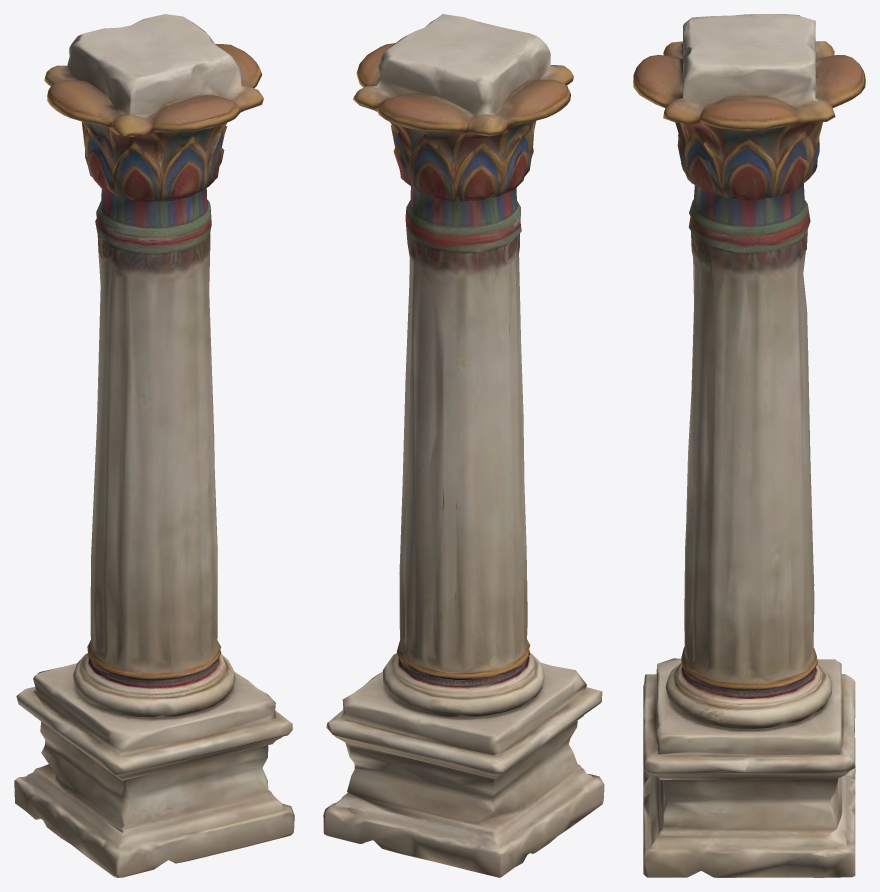
The model's file is egyptian_column.glb.
3 views of the same model, side by side, from view 1: azimuth 30°, elevation 25°; view 2: azimuth 150°, elevation 25°; view 3: azimuth 270°, elevation 25° (orthographic). The views are drawn at different scales.
Parts seen in each view (by area): view 1: tripo_node_01571942-dcf3-449b-905e-fe70039db5fb; view 2: tripo_node_01571942-dcf3-449b-905e-fe70039db5fb; view 3: tripo_node_01571942-dcf3-449b-905e-fe70039db5fb.
Part boxes in pixels (bbox=[...]): tripo_node_01571942-dcf3-449b-905e-fe70039db5fb: bbox=[14, 14, 294, 877]; tripo_node_01571942-dcf3-449b-905e-fe70039db5fb: bbox=[323, 14, 604, 877]; tripo_node_01571942-dcf3-449b-905e-fe70039db5fb: bbox=[633, 14, 865, 877].
Size of the model in its own units: 0.2589 by 0.9793 by 0.26.
1 material, 1 textured.
